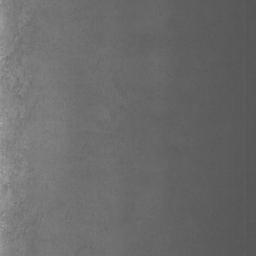Silk spot: (5, 18, 36, 68), (6, 112, 25, 151), (4, 172, 19, 194), (24, 213, 44, 228), (13, 78, 24, 105), (13, 202, 28, 219), (10, 229, 28, 242), (10, 155, 24, 170)
